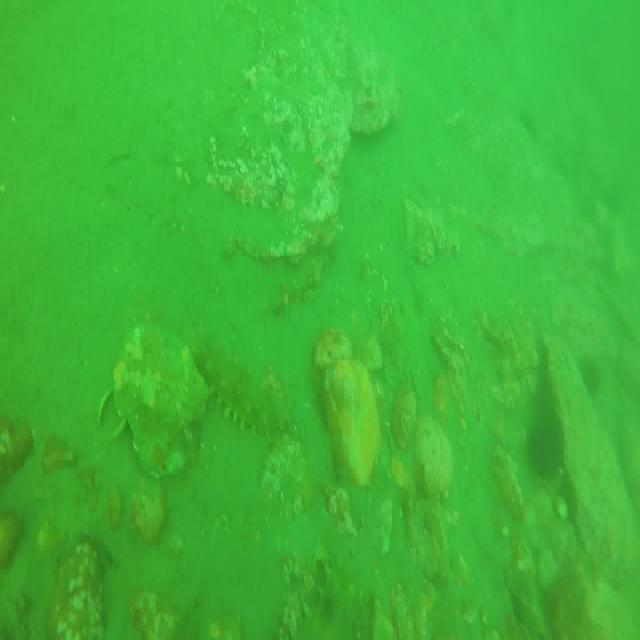echinus: (530, 422, 564, 478)
holothurian: (197, 336, 293, 434)
